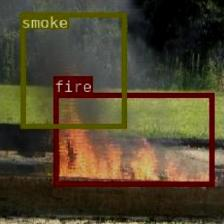fire: (52, 92, 214, 186)
smoke: (20, 11, 125, 128)
